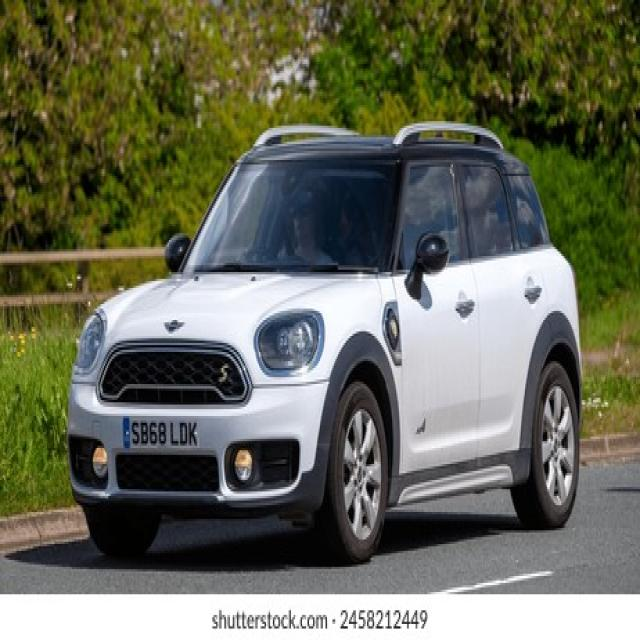mini: (161, 315, 188, 334)
